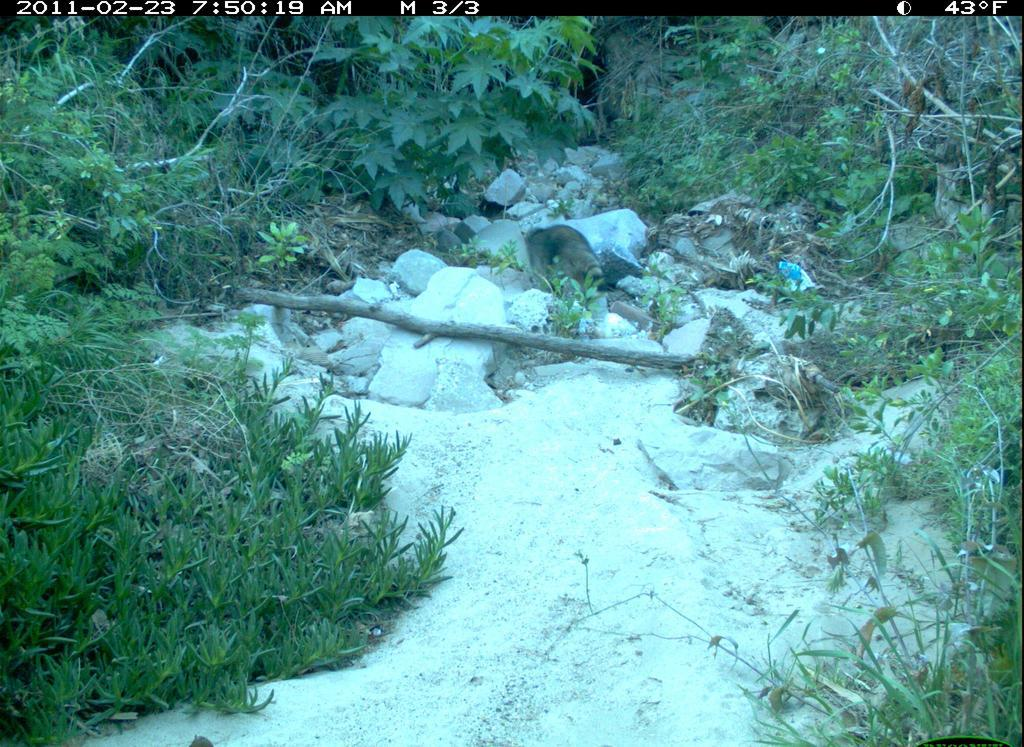raccoon: (521, 217, 620, 309)
